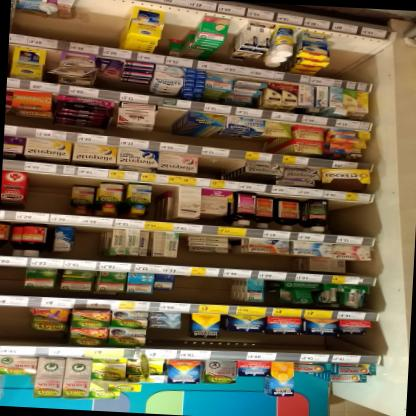empty_space: (70, 0, 131, 43), (330, 37, 383, 76), (175, 277, 232, 302), (29, 177, 68, 212), (330, 200, 364, 235), (0, 306, 26, 342), (163, 9, 192, 40), (198, 157, 233, 177), (0, 267, 23, 294), (156, 111, 174, 131)
